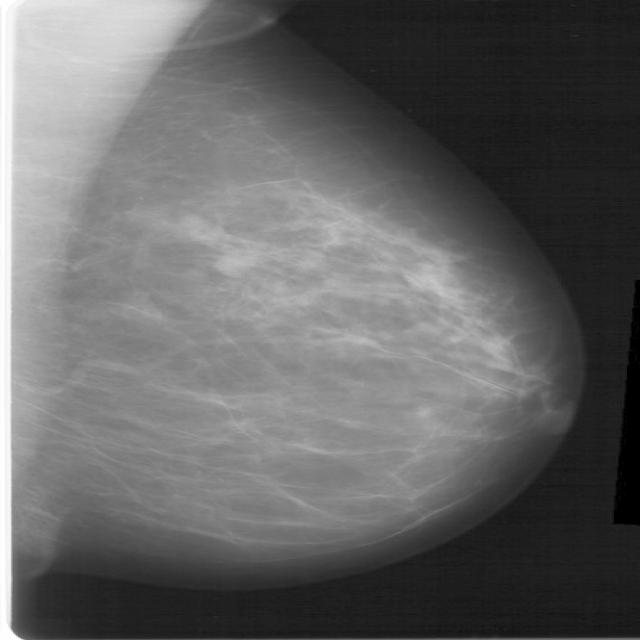tumour: (210, 248, 254, 276)
